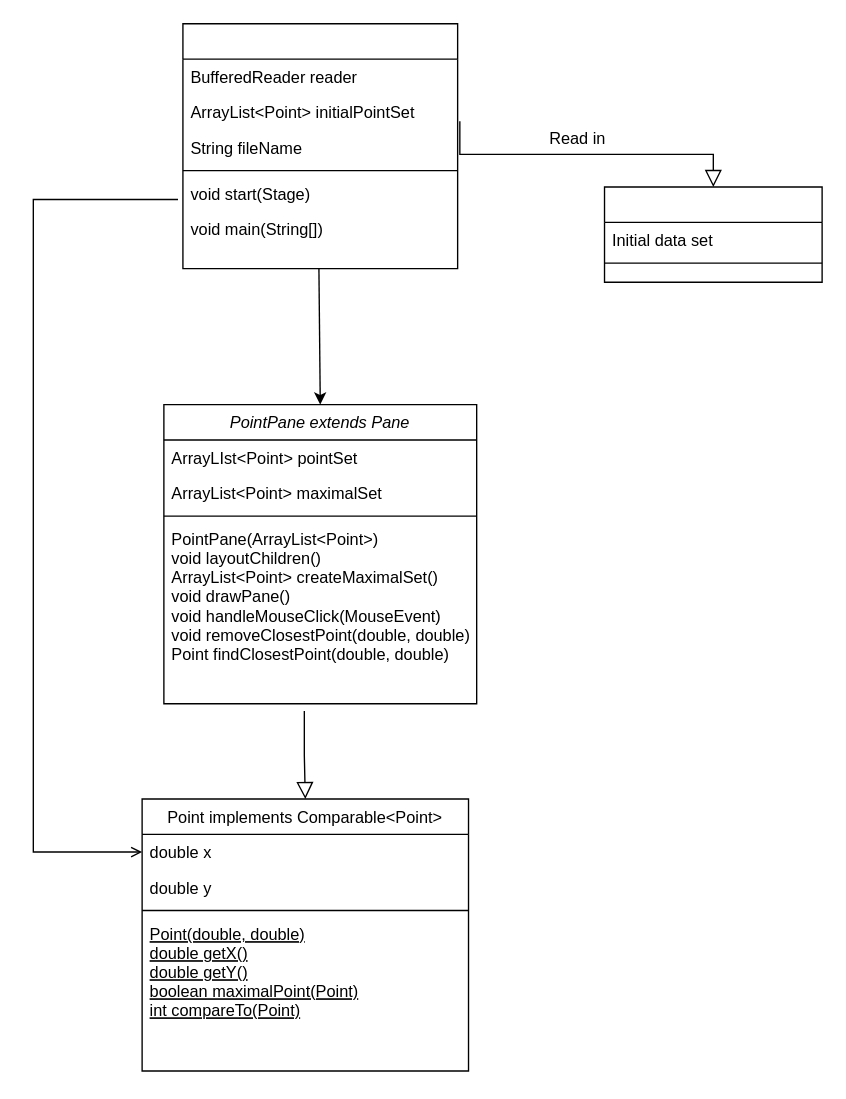
This 846x1099 diagram has some shape labels left out. Each missing label, with the box of its shape:
Main extends Application: (182, 22, 458, 269)
points.txt: (603, 186, 822, 282)
